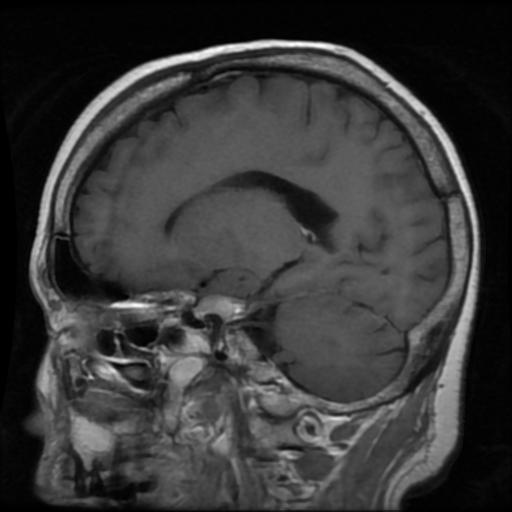Pituirity_tumour: (192, 295, 244, 319)
